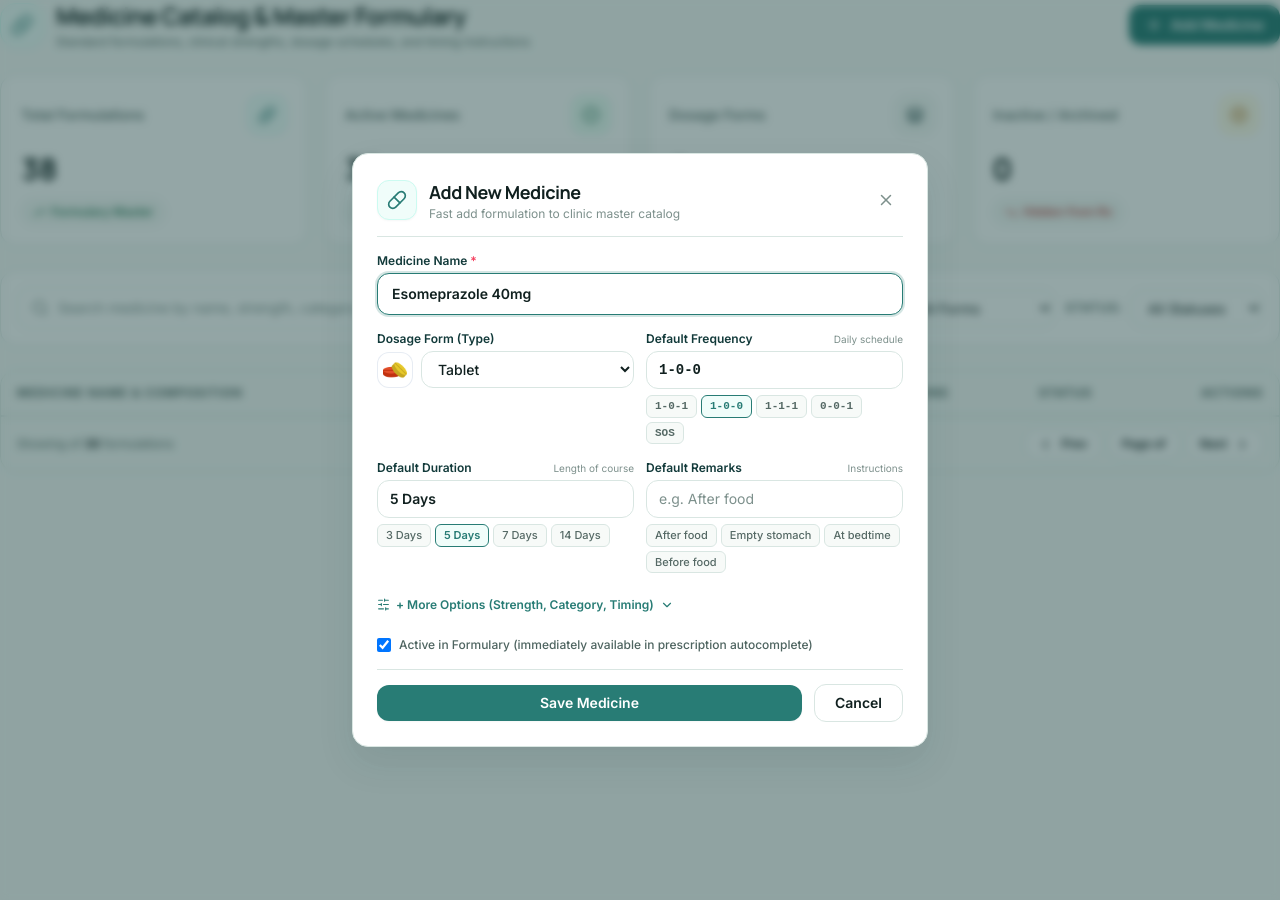
MedicinesPage Component › opens modal to add new medicine and saves to localMedicines
Earlier steps of the test are not shown.
Type "14 Days" into the field labelled "Default Duration" at (506, 499), box [377,480,634,518]
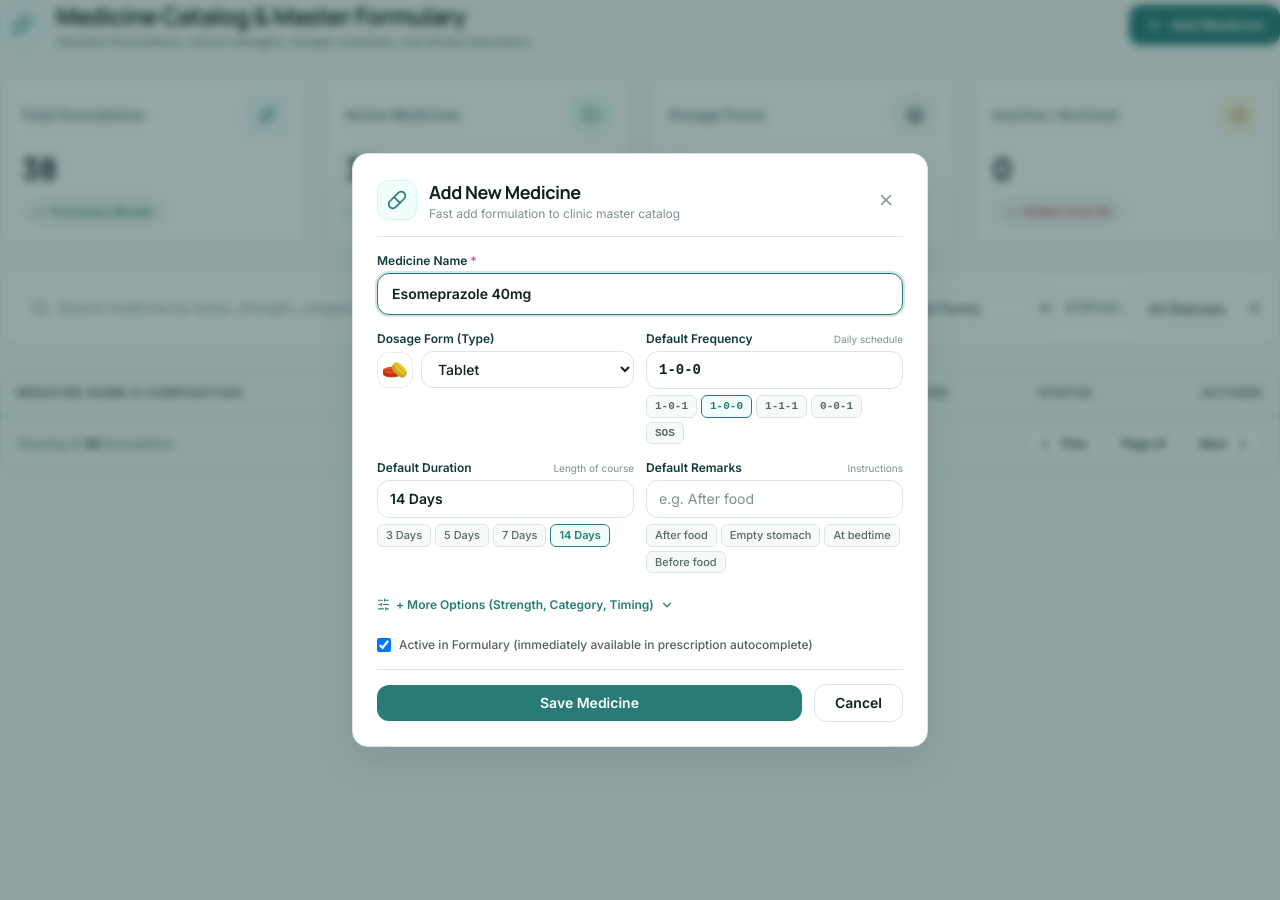
Type "Take 30 mins before breakfast" into the field named "Default Instructions" at (774, 499), box [646,480,903,518]
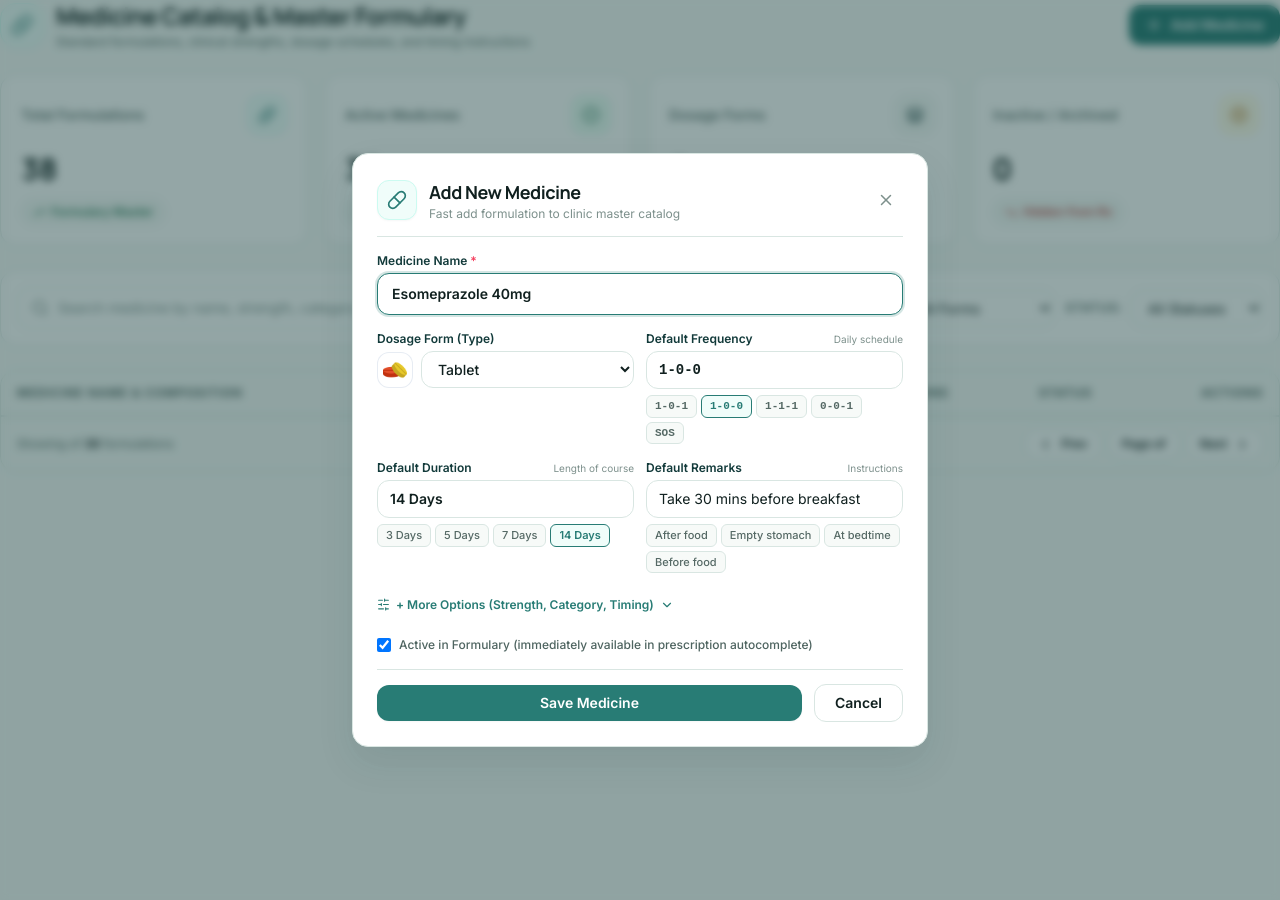
Click the button "Save Medicine" at (590, 703), box [377,685,802,721]
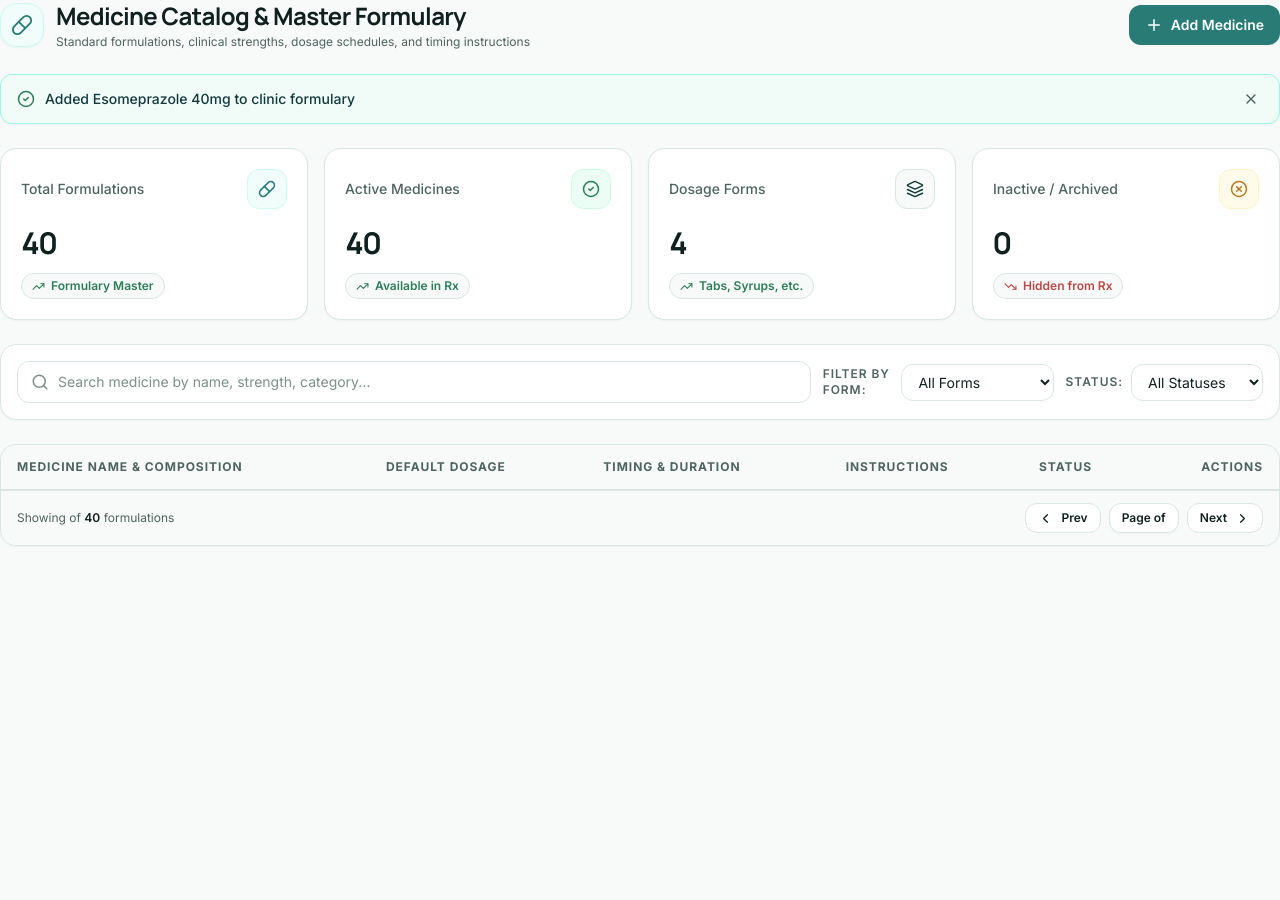
Expected: the text "Added Esomeprazole 40mg to clinic formulary" is shown, [45,89,355,109]
